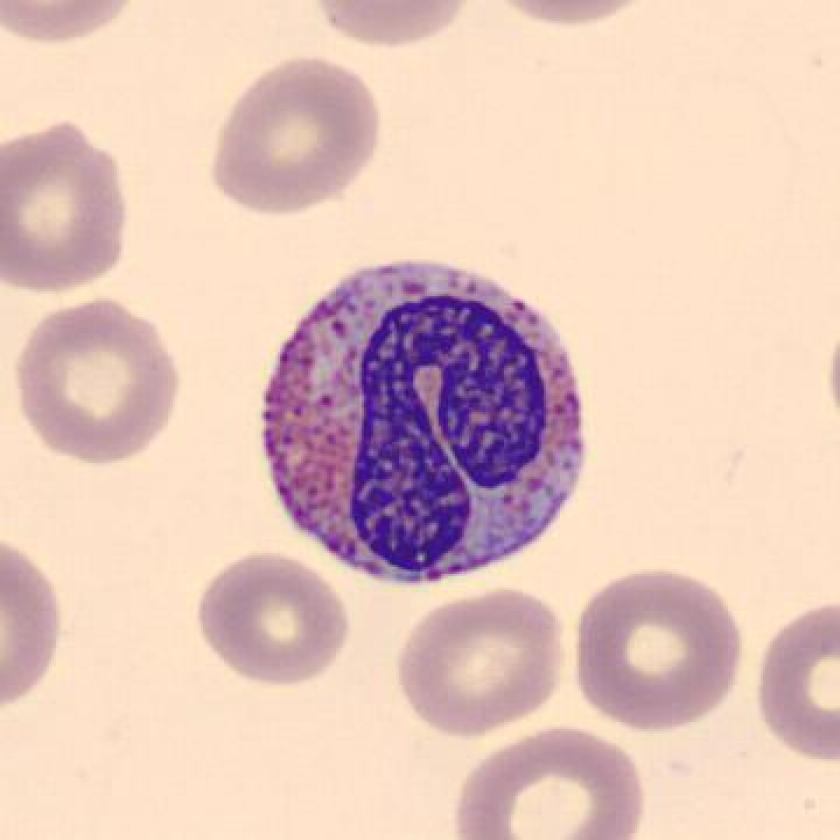eosinophil: (244, 247, 601, 601)
